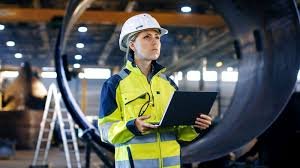Person_wearing_helmet: (113, 11, 168, 45)
